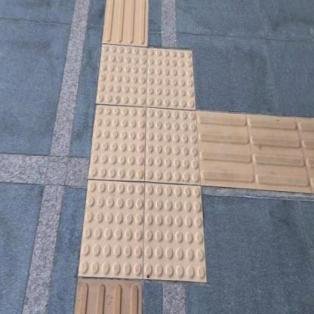Podoctatil: (71, 20, 218, 306), (200, 110, 314, 198), (75, 281, 142, 314), (106, 0, 147, 47)
